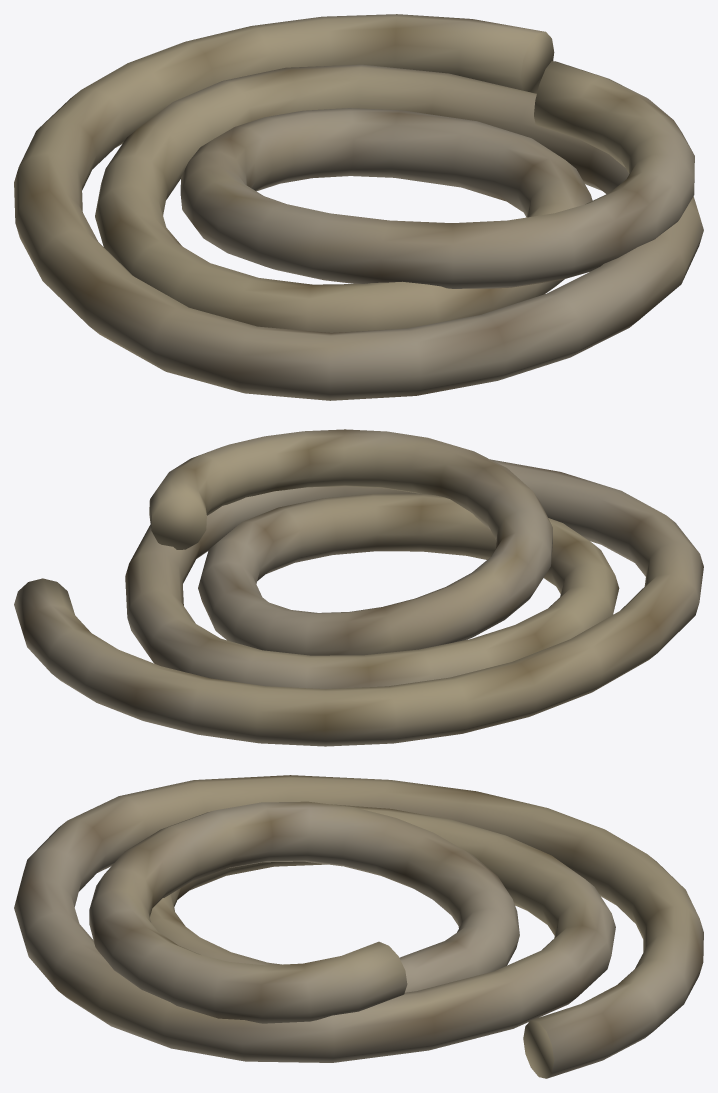
The model's file is Rope_1.glb.
The picture shows the model from 3 angles, top to bottom: view 1: azimuth 30°, elevation 25°; view 2: azimuth 150°, elevation 25°; view 3: azimuth 270°, elevation 25°; orthographic projection. The views are drawn at different scales.
Visible parts, largest first — view 1: Rope_1; view 2: Rope_1; view 3: Rope_1.
Part boxes in pixels (left/top/right/bottom): Rope_1: left=14, top=14, right=703, bottom=400; Rope_1: left=14, top=429, right=703, bottom=746; Rope_1: left=14, top=775, right=703, bottom=1078.
Bounding box in the file's own units: 0.5574 × 0.0979 × 0.6063.
